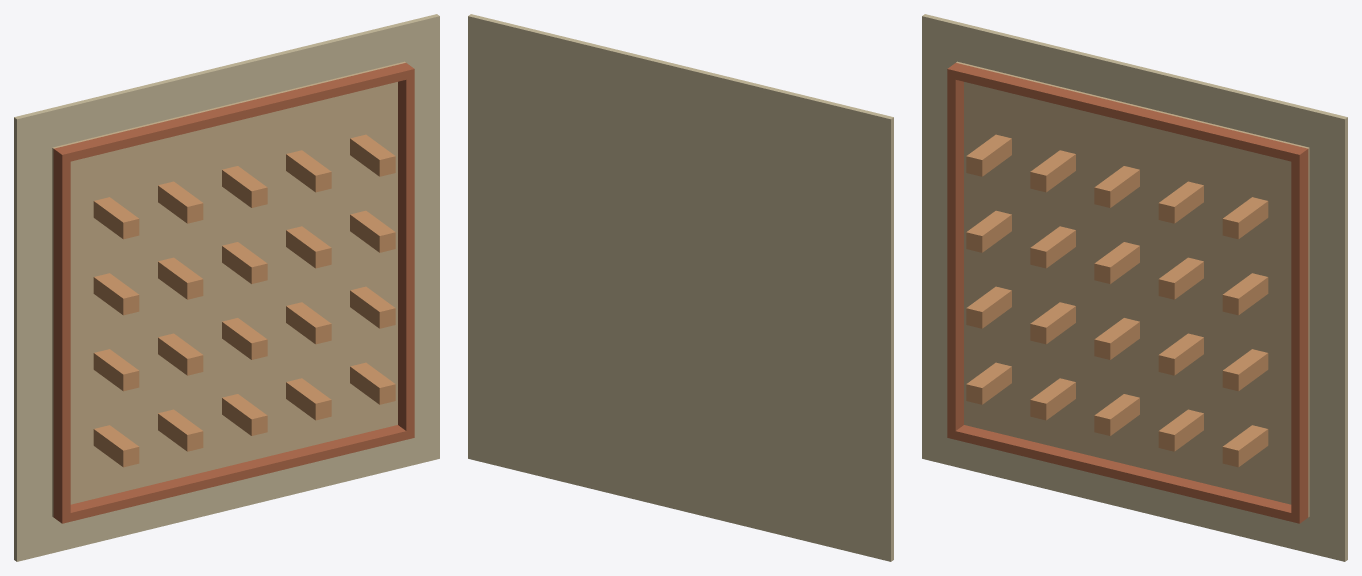
File: pillared-hall.obj
The picture shows the model from 3 angles, left to right: view 1: azimuth 30°, elevation 25°; view 2: azimuth 150°, elevation 25°; view 3: azimuth 330°, elevation 25°; orthographic projection.
Parts seen in each view (by area): view 1: floor_1, ground_0, floor_4, floor_3, floor_2, floor_5, pillars_6, pillars_11, pillars_16, pillars_21, pillars_15, pillars_19 (+14 smaller); view 2: ground_0; view 3: floor_1, ground_0, floor_5, floor_3, floor_2, floor_4, pillars_10, pillars_15, pillars_20, pillars_25, pillars_11, pillars_17 (+14 smaller).
Boxes of the visible parts, box(x1,y1,x2,y2) form: floor_1: box(52, 61, 405, 517); ground_0: box(14, 14, 439, 561); floor_4: box(53, 158, 70, 514); floor_3: box(53, 63, 414, 163); floor_2: box(53, 425, 414, 523); floor_5: box(398, 77, 414, 430); pillars_6: box(93, 425, 139, 467); pillars_11: box(93, 349, 139, 391); pillars_16: box(93, 273, 139, 315); pillars_21: box(93, 197, 139, 239); pillars_15: box(350, 286, 395, 328); pillars_19: box(286, 226, 331, 268); ground_0: box(468, 14, 893, 561); floor_1: box(956, 61, 1309, 517); ground_0: box(922, 14, 1347, 561); floor_5: box(1291, 158, 1308, 514); floor_3: box(947, 63, 1308, 163); floor_2: box(947, 425, 1308, 523); floor_4: box(947, 77, 963, 430); pillars_10: box(1222, 425, 1268, 467); pillars_15: box(1222, 349, 1268, 391); pillars_20: box(1222, 273, 1268, 315); pillars_25: box(1222, 197, 1268, 239); pillars_11: box(966, 286, 1011, 328); pillars_17: box(1030, 226, 1075, 268).
Bounding box in the file's own units: 33 × 33 × 4.6.
